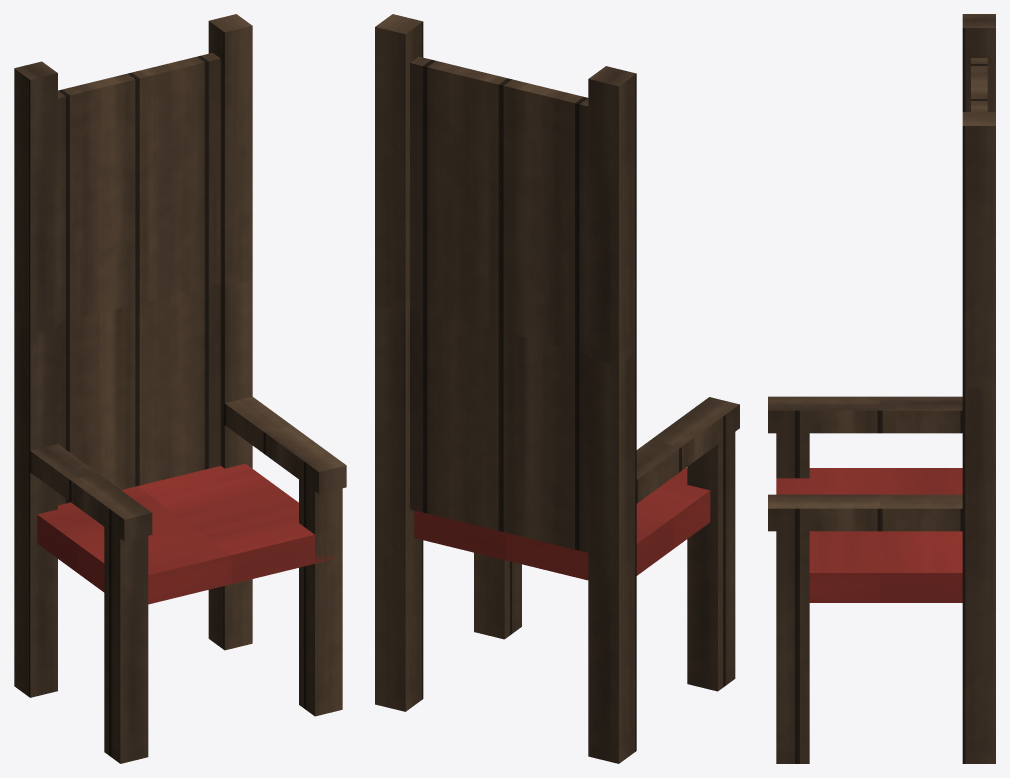
File: Chair_Gothic_1_LOD2.gltf
3 views of the same model, side by side, from view 1: azimuth 30°, elevation 25°; view 2: azimuth 150°, elevation 25°; view 3: azimuth 270°, elevation 25° (orthographic). The views are drawn at different scales.
Parts seen in each view (by area): view 1: Chair_Gothic_1_LOD2; view 2: Chair_Gothic_1_LOD2; view 3: Chair_Gothic_1_LOD2.
Boxes of the visible parts, x1,y1,x2,y2 form: Chair_Gothic_1_LOD2: (14, 14, 346, 763); Chair_Gothic_1_LOD2: (375, 14, 739, 763); Chair_Gothic_1_LOD2: (768, 14, 995, 763).
Bounding box in the file's own units: 0.64 × 1.7 × 0.55.
Materials: 2 (2 with a texture image).
